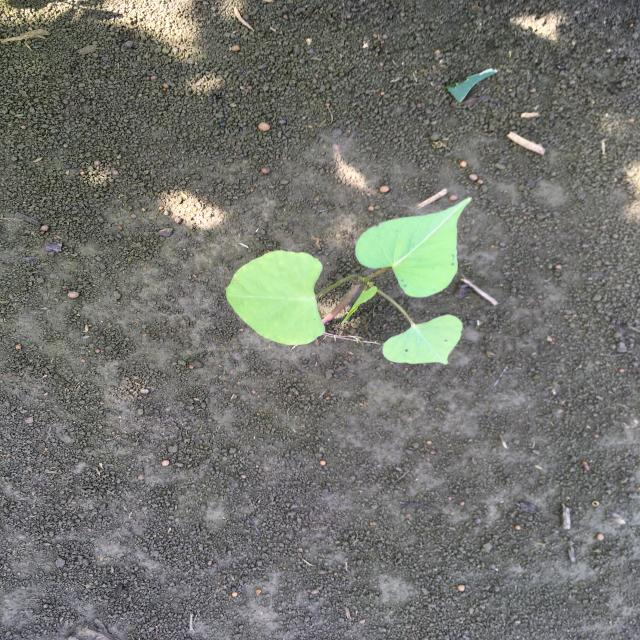MorningGlory: (224, 196, 476, 366)
